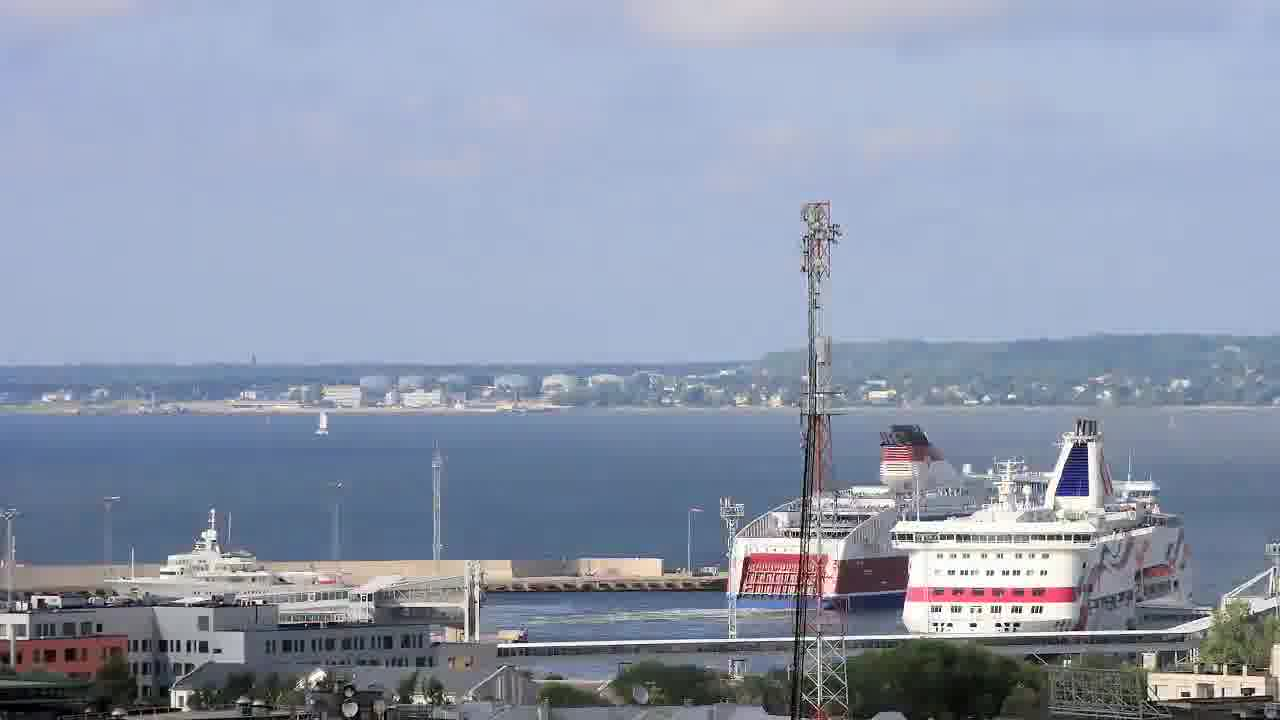type-2: (296, 390, 349, 450)
type-3: (868, 415, 1225, 638), (713, 429, 934, 625), (89, 518, 402, 620)
